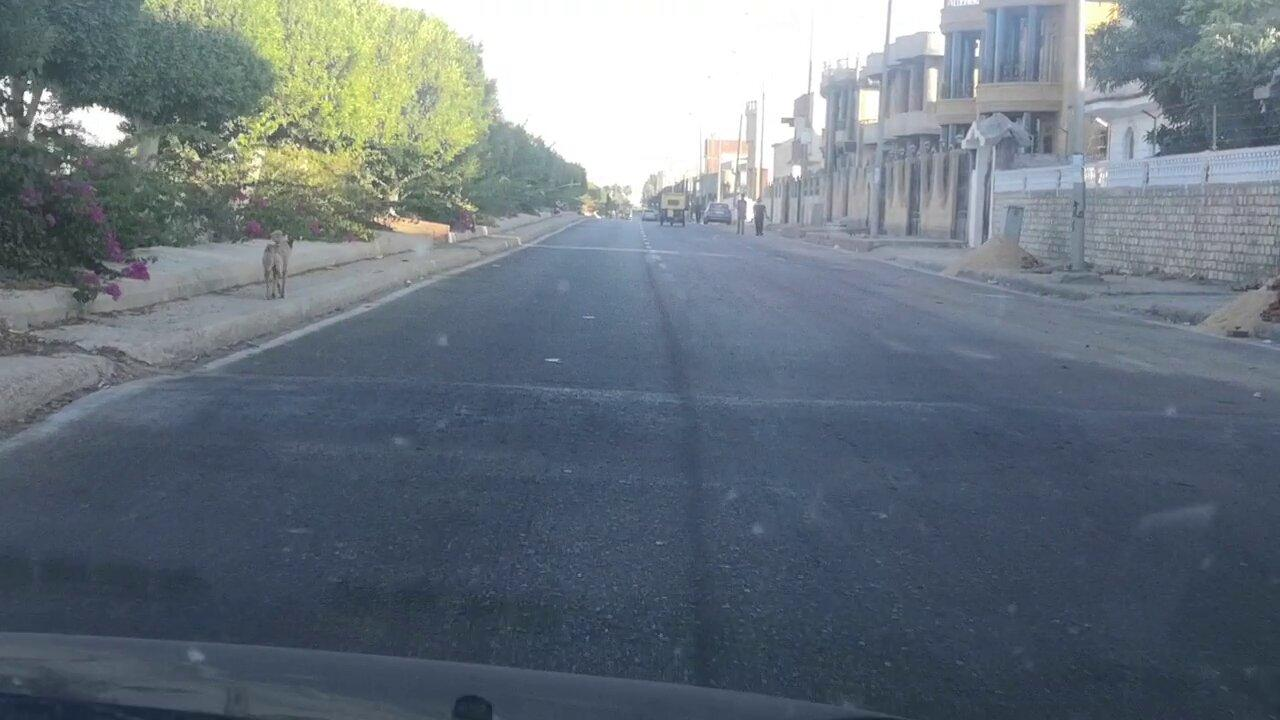Bump: (185, 352, 1280, 528)
